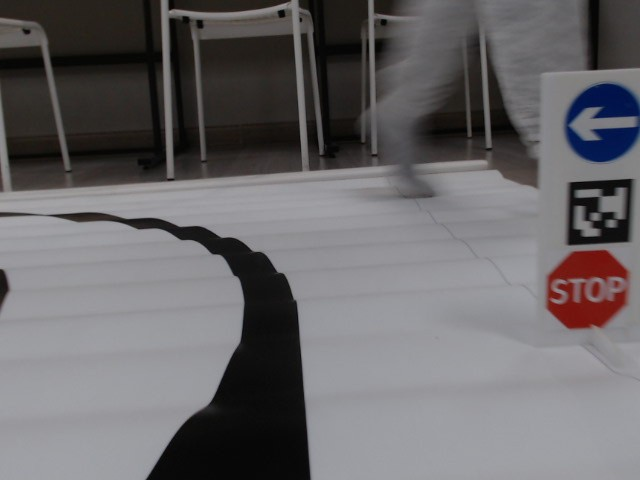Stop: (544, 251, 631, 331)
